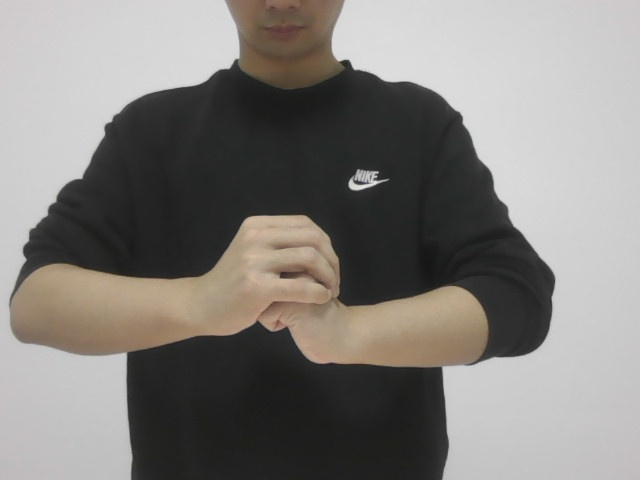wish: (209, 203, 352, 368)
